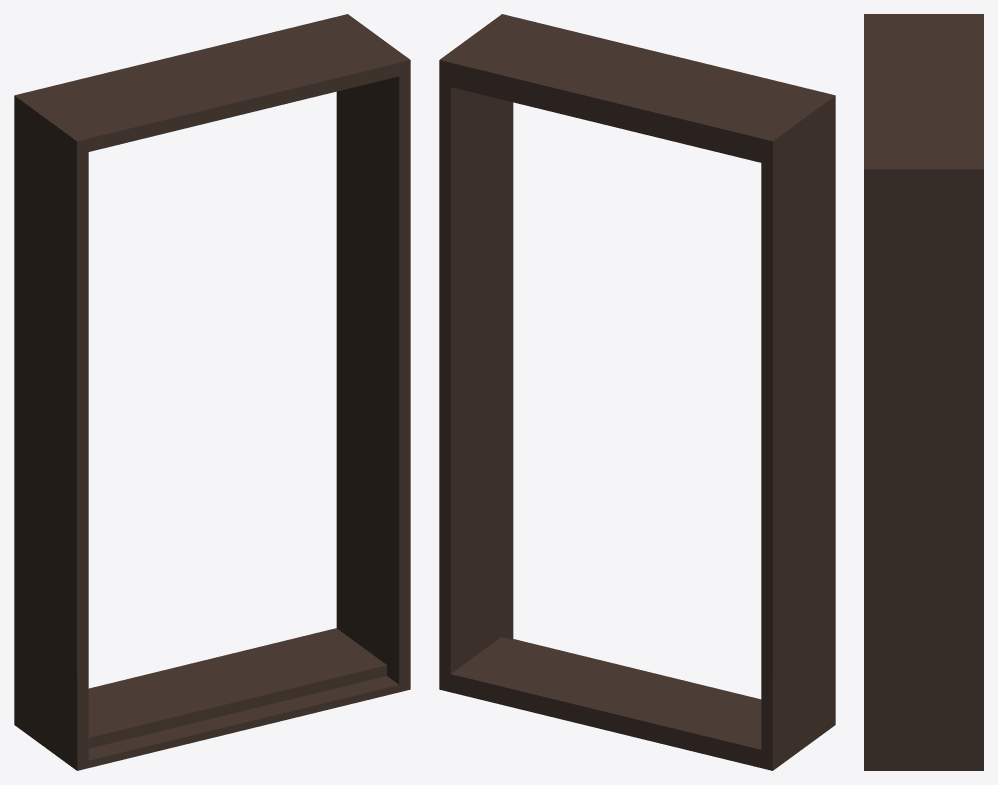
File: Itr_Doorframe_04.FBX
3 views of the same model, side by side, from view 1: azimuth 30°, elevation 25°; view 2: azimuth 150°, elevation 25°; view 3: azimuth 270°, elevation 25° (orthographic). The views are drawn at different scales.
Visible parts, largest first — view 1: Itr_Doorframe_04; view 2: Itr_Doorframe_04; view 3: Itr_Doorframe_04.
Part boxes in pixels (box(x1,y1,x2,y2)): Itr_Doorframe_04: box(14, 14, 410, 770); Itr_Doorframe_04: box(439, 14, 835, 770); Itr_Doorframe_04: box(864, 14, 983, 770).
Bounding box in the file's own units: 46.95 × 84.65 × 15.3.
